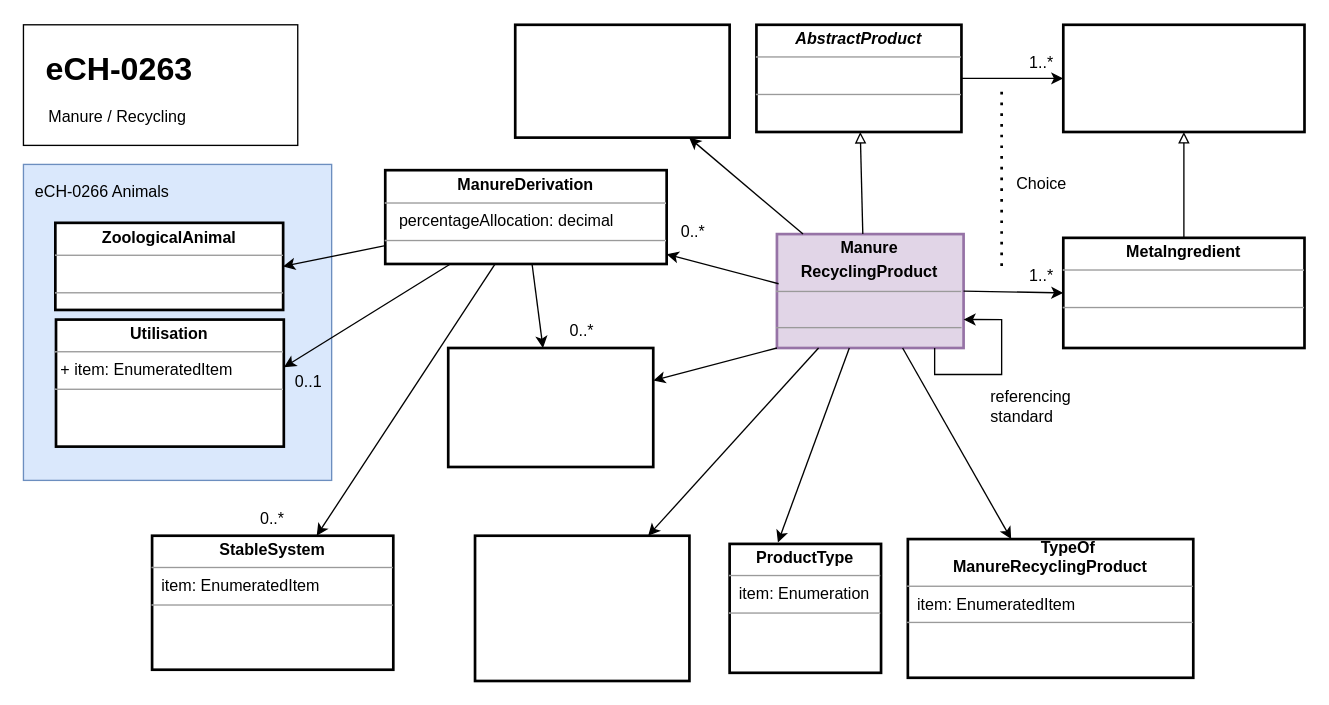
This 1329x705 diagram has some shape labels left out. Each missing label, with the centre of its shape:
Ingredient: the point at 1183,78
ManureRecycling ProductCategory item: EnumeratedItem: the point at 581,608
MatterState item: EnumeratedItem: the point at 621,80
NprCode item : EnumeratedItem: the point at 550,407
